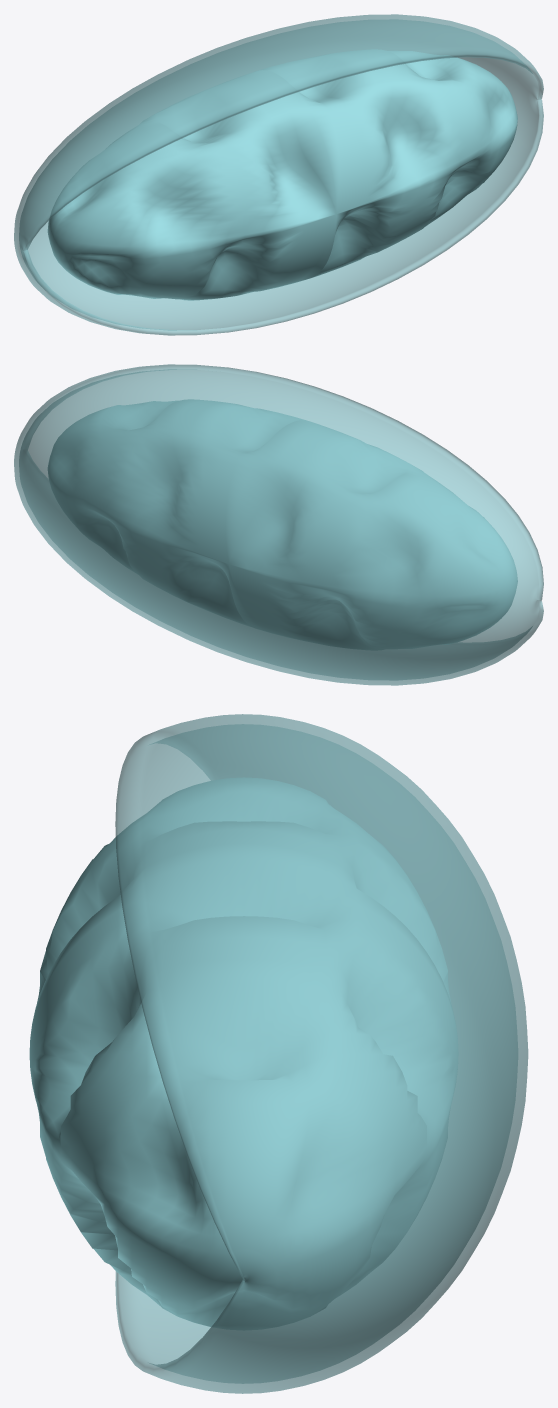
The model's file is mitochondrion_editorial.glb.
3 renders of one model, top to bottom at view 1: azimuth 30°, elevation 25°; view 2: azimuth 150°, elevation 25°; view 3: azimuth 270°, elevation 25°, orthographic. The views are drawn at different scales.
Visible parts, largest first — view 1: Mito_Cristae_Inner, Mito_Outer_Cutaway; view 2: Mito_Outer_Cutaway, Mito_Cristae_Inner; view 3: Mito_Outer_Cutaway, Mito_Cristae_Inner.
Part boxes in pixels (left/top/right/bottom): Mito_Cristae_Inner: left=47, top=49, right=517, bottom=300; Mito_Outer_Cutaway: left=14, top=14, right=543, bottom=335; Mito_Outer_Cutaway: left=14, top=364, right=543, bottom=685; Mito_Cristae_Inner: left=48, top=399, right=517, bottom=650; Mito_Outer_Cutaway: left=115, top=714, right=528, bottom=1393; Mito_Cristae_Inner: left=29, top=777, right=458, bottom=1330.
Bounding box in the file's own units: 12 × 5.76 × 5.
